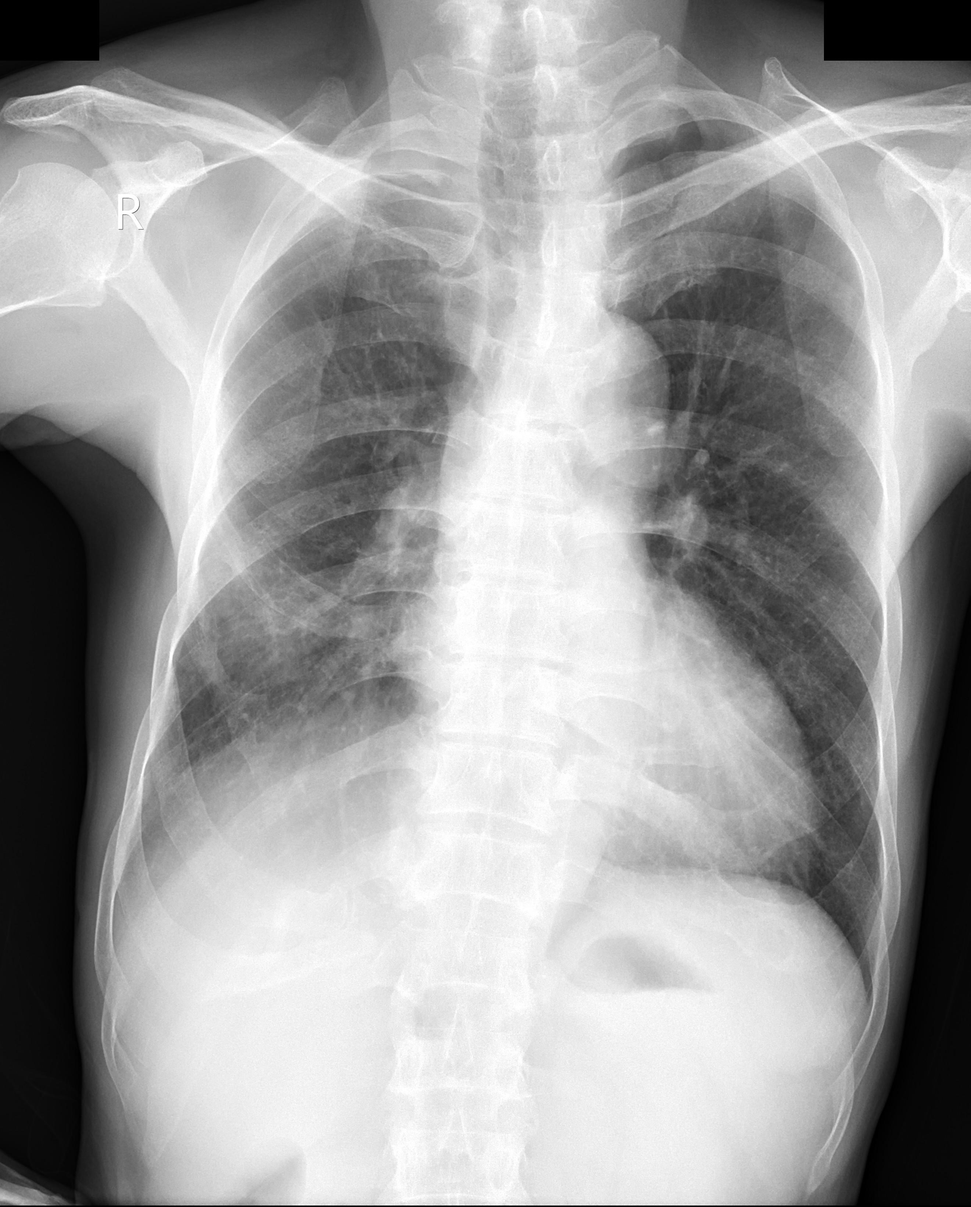Cardiomegaly: (370, 625, 813, 915)
